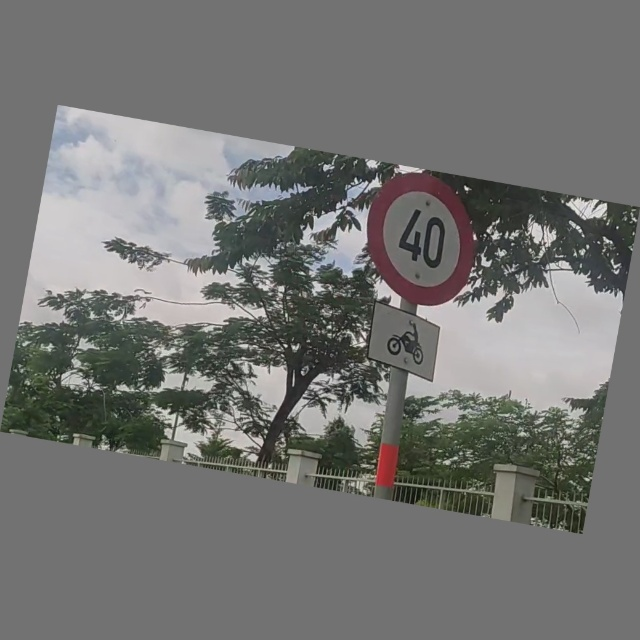P.127*40: (352, 164, 495, 317)
S.505a*Xe may: (356, 298, 454, 389)
